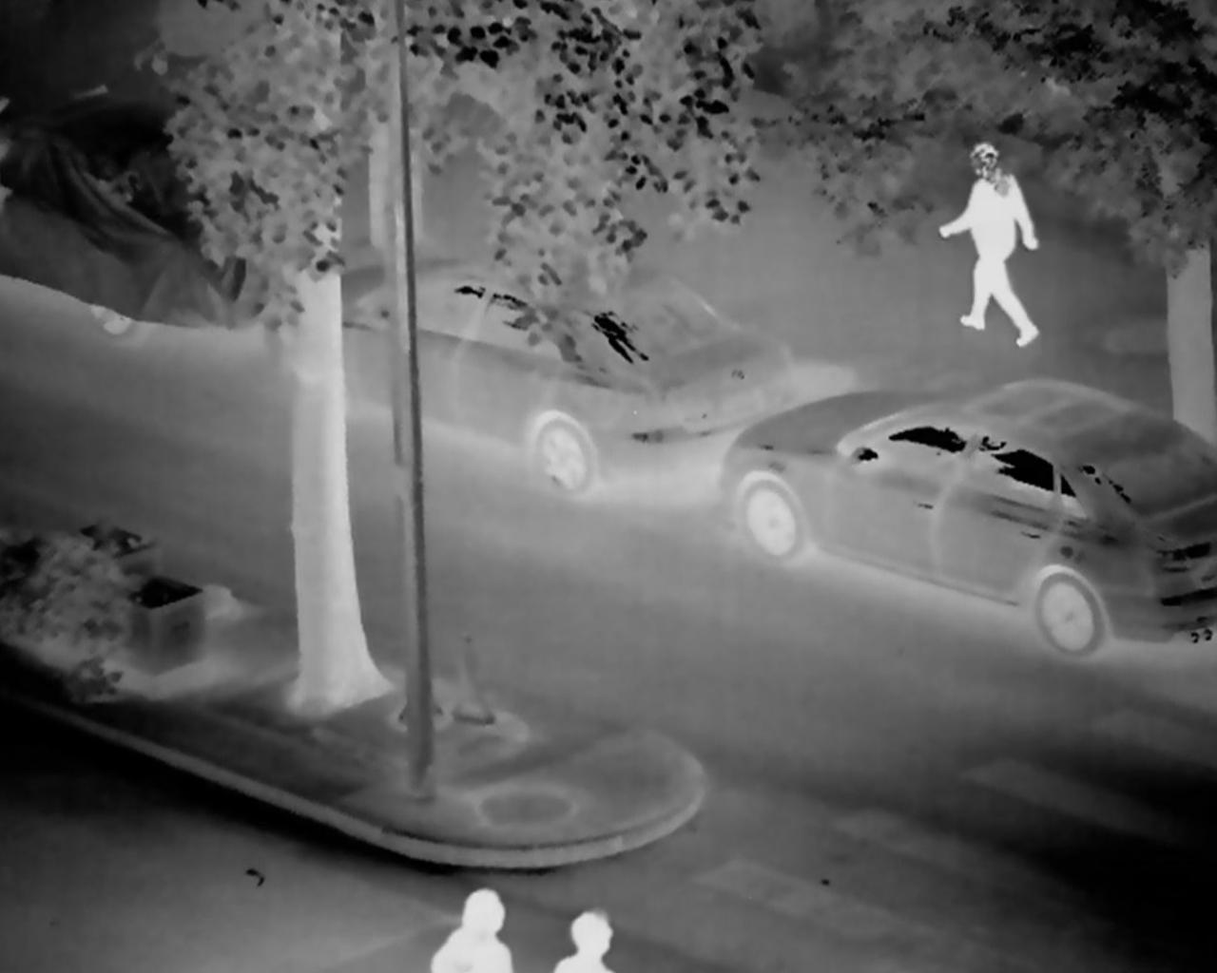person: (933, 143, 1049, 351), (429, 884, 513, 973), (547, 903, 615, 973)
